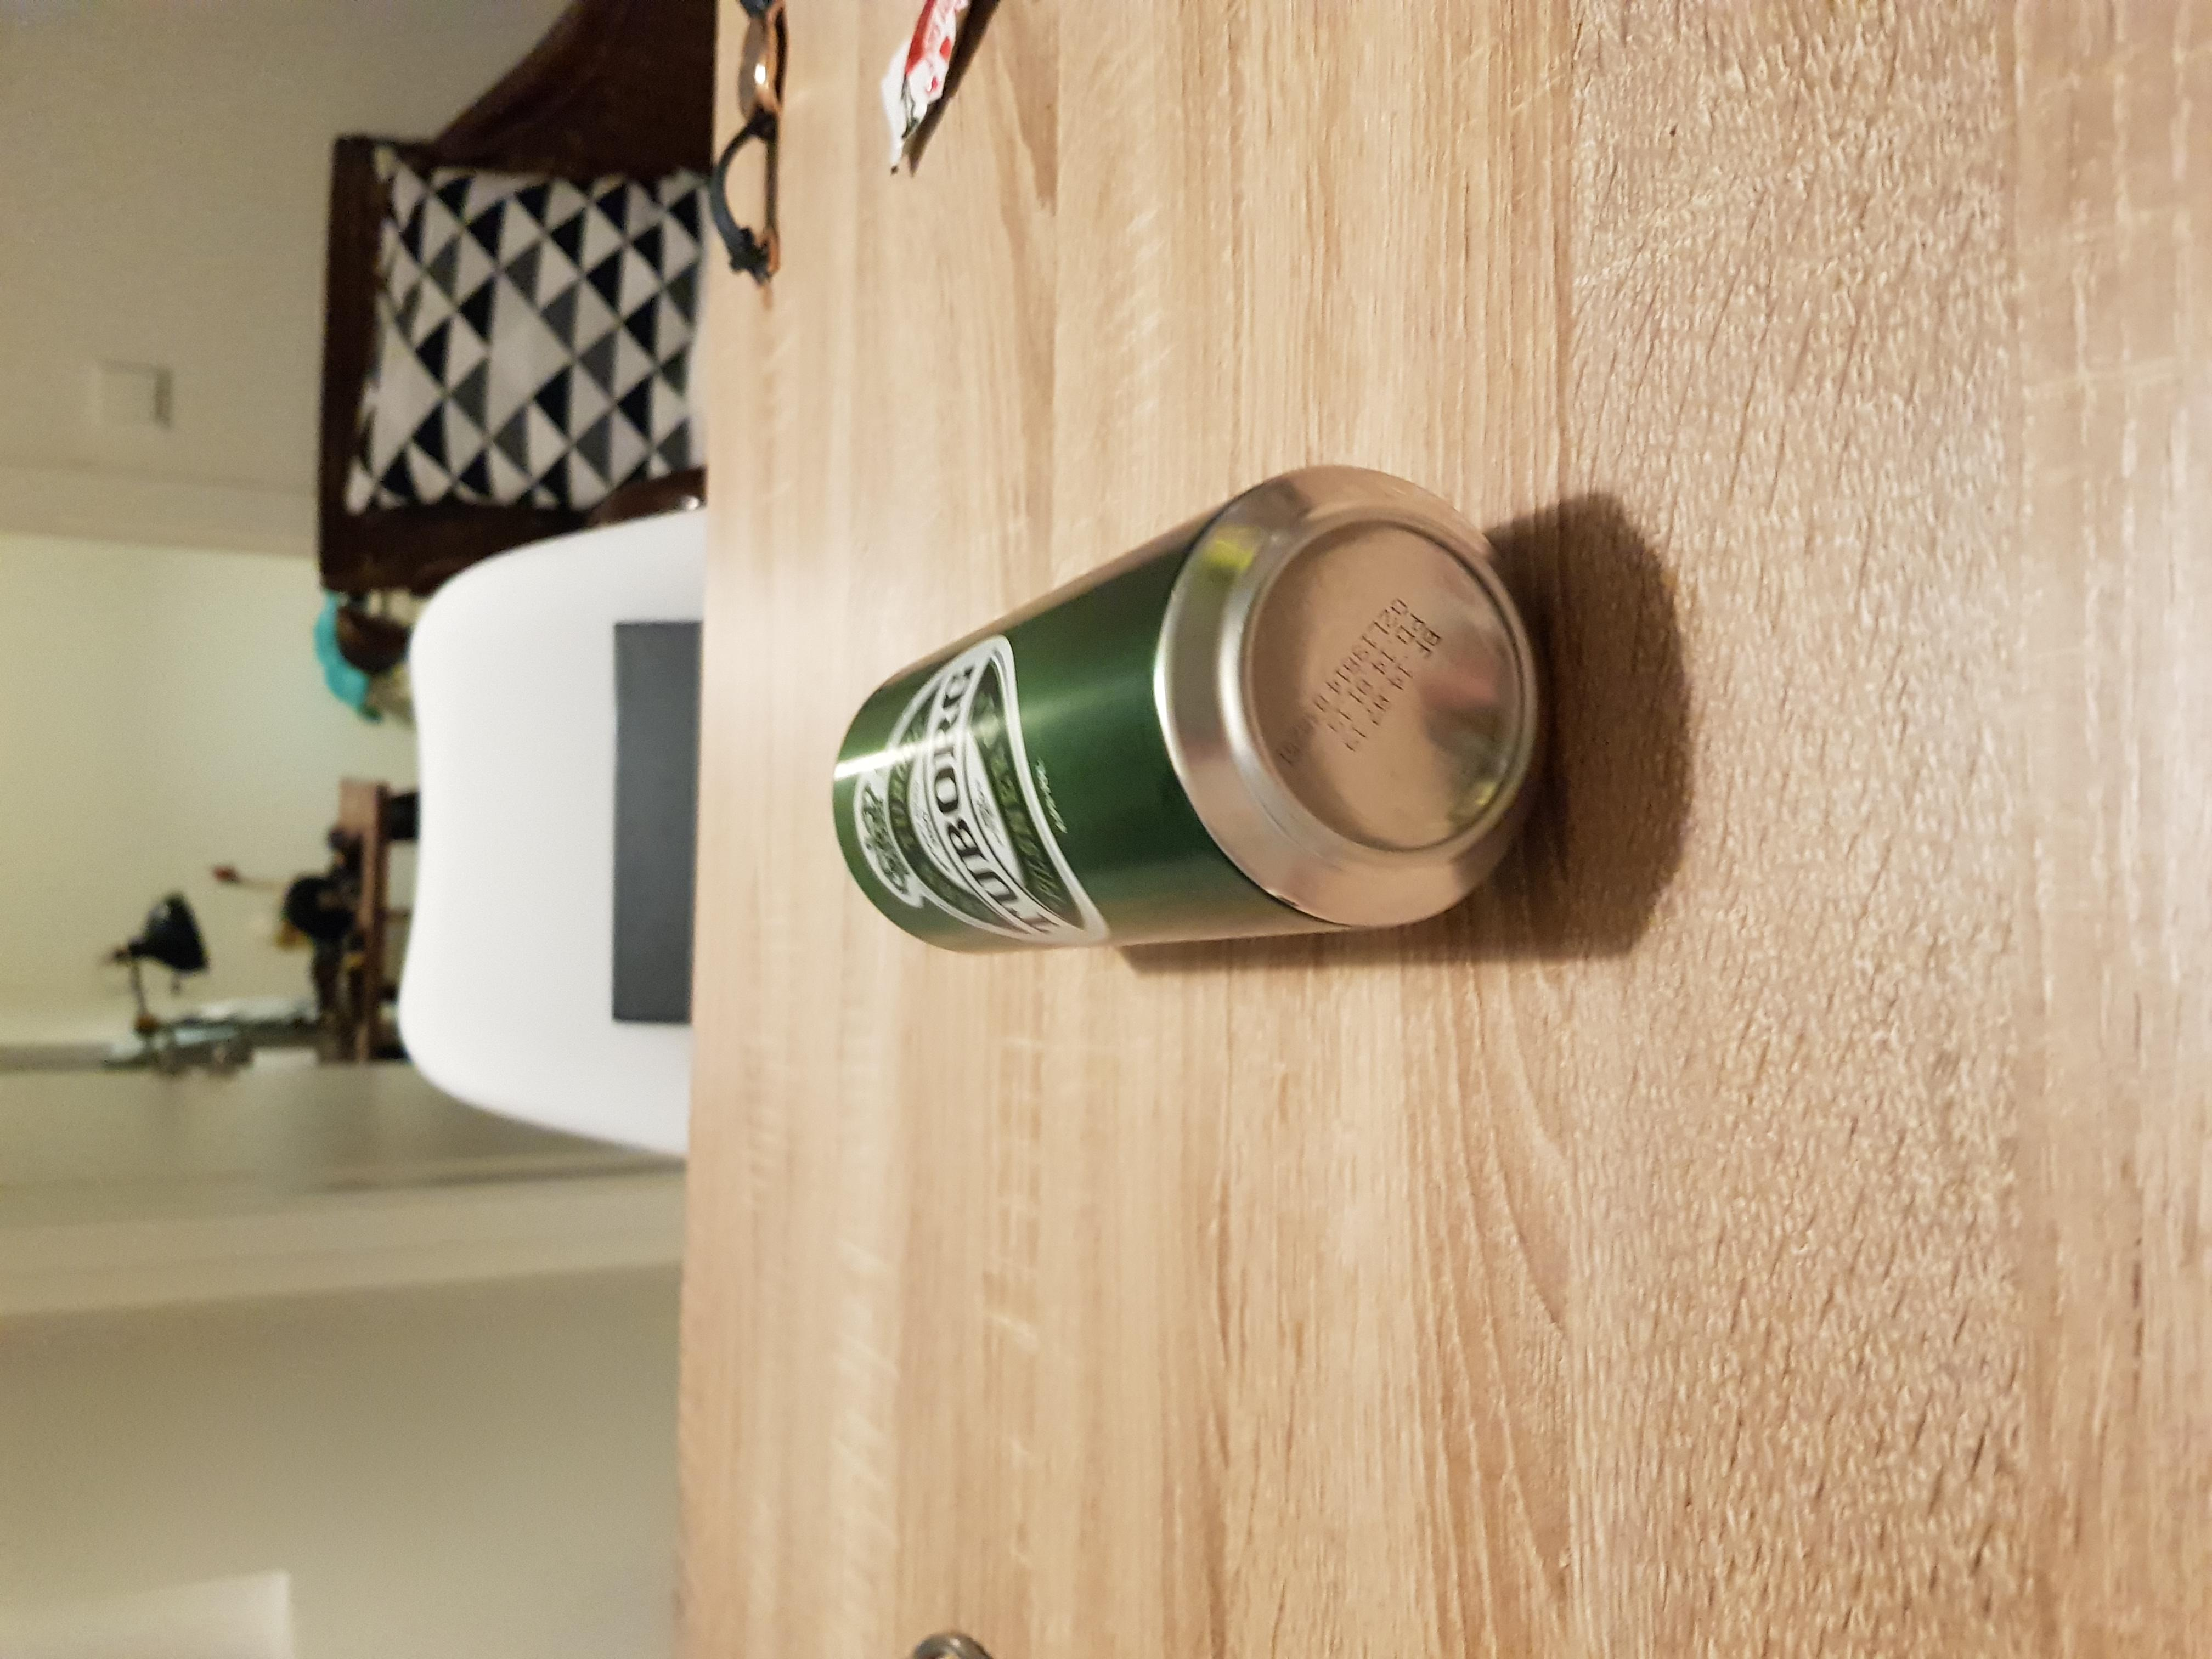can: (813, 457, 1562, 957)
